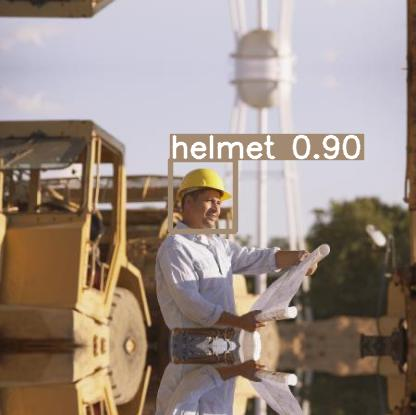helmet: (170, 159, 235, 231)
